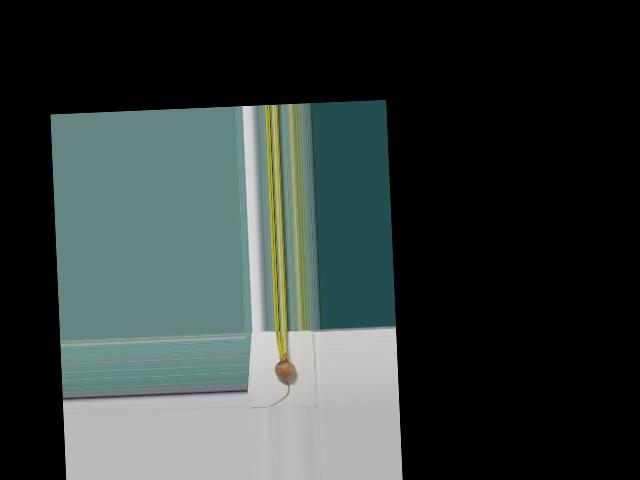beet: (267, 330, 296, 406)
